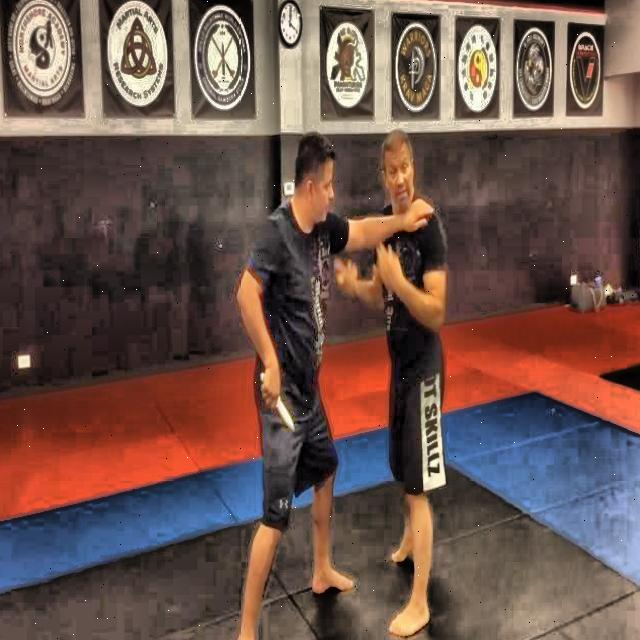knife: (260, 374, 296, 431)
